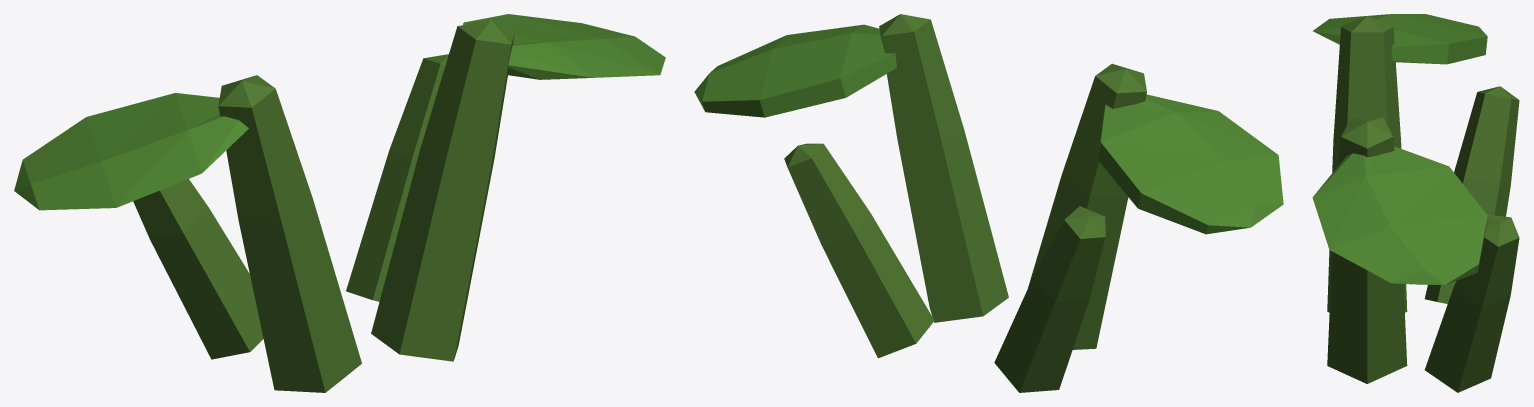
File: hops_0.gltf
3 renders of one model, left to right at view 1: azimuth 30°, elevation 25°; view 2: azimuth 150°, elevation 25°; view 3: azimuth 270°, elevation 25°, orthographic. The views are drawn at different scales.
Parts seen in each view (by area): view 1: hops_0; view 2: hops_0; view 3: hops_0.
Part boxes in pixels (box(x1,y1,x2,y2)): hops_0: box(14, 14, 665, 392); hops_0: box(694, 14, 1283, 392); hops_0: box(1312, 14, 1519, 392).
Size of the model in its own units: 0.428 by 0.2103 by 0.1408.
